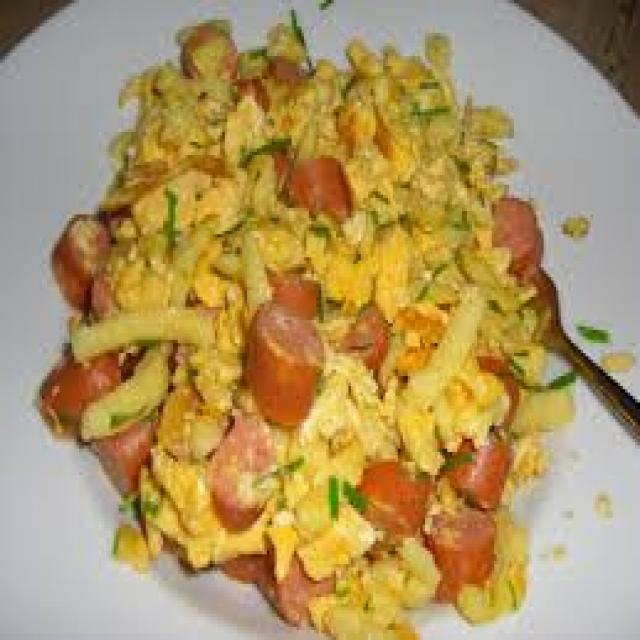organic waste: (52, 182, 539, 399), (84, 337, 578, 538), (121, 17, 512, 188), (168, 504, 519, 636), (210, 376, 279, 518), (423, 495, 494, 604), (245, 304, 316, 412), (34, 343, 119, 432), (255, 544, 336, 627), (435, 429, 514, 508), (87, 406, 153, 495), (356, 452, 430, 528), (52, 208, 104, 297), (289, 145, 351, 211), (486, 192, 538, 270), (180, 17, 240, 82), (252, 46, 299, 119), (477, 356, 516, 429), (346, 300, 388, 363), (269, 270, 319, 307), (265, 145, 289, 195), (220, 548, 267, 570), (573, 317, 608, 343), (559, 211, 588, 234), (603, 343, 630, 363), (598, 495, 610, 511)
